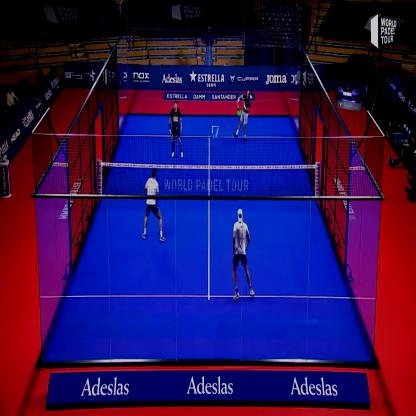ball: (213, 126, 220, 139)
